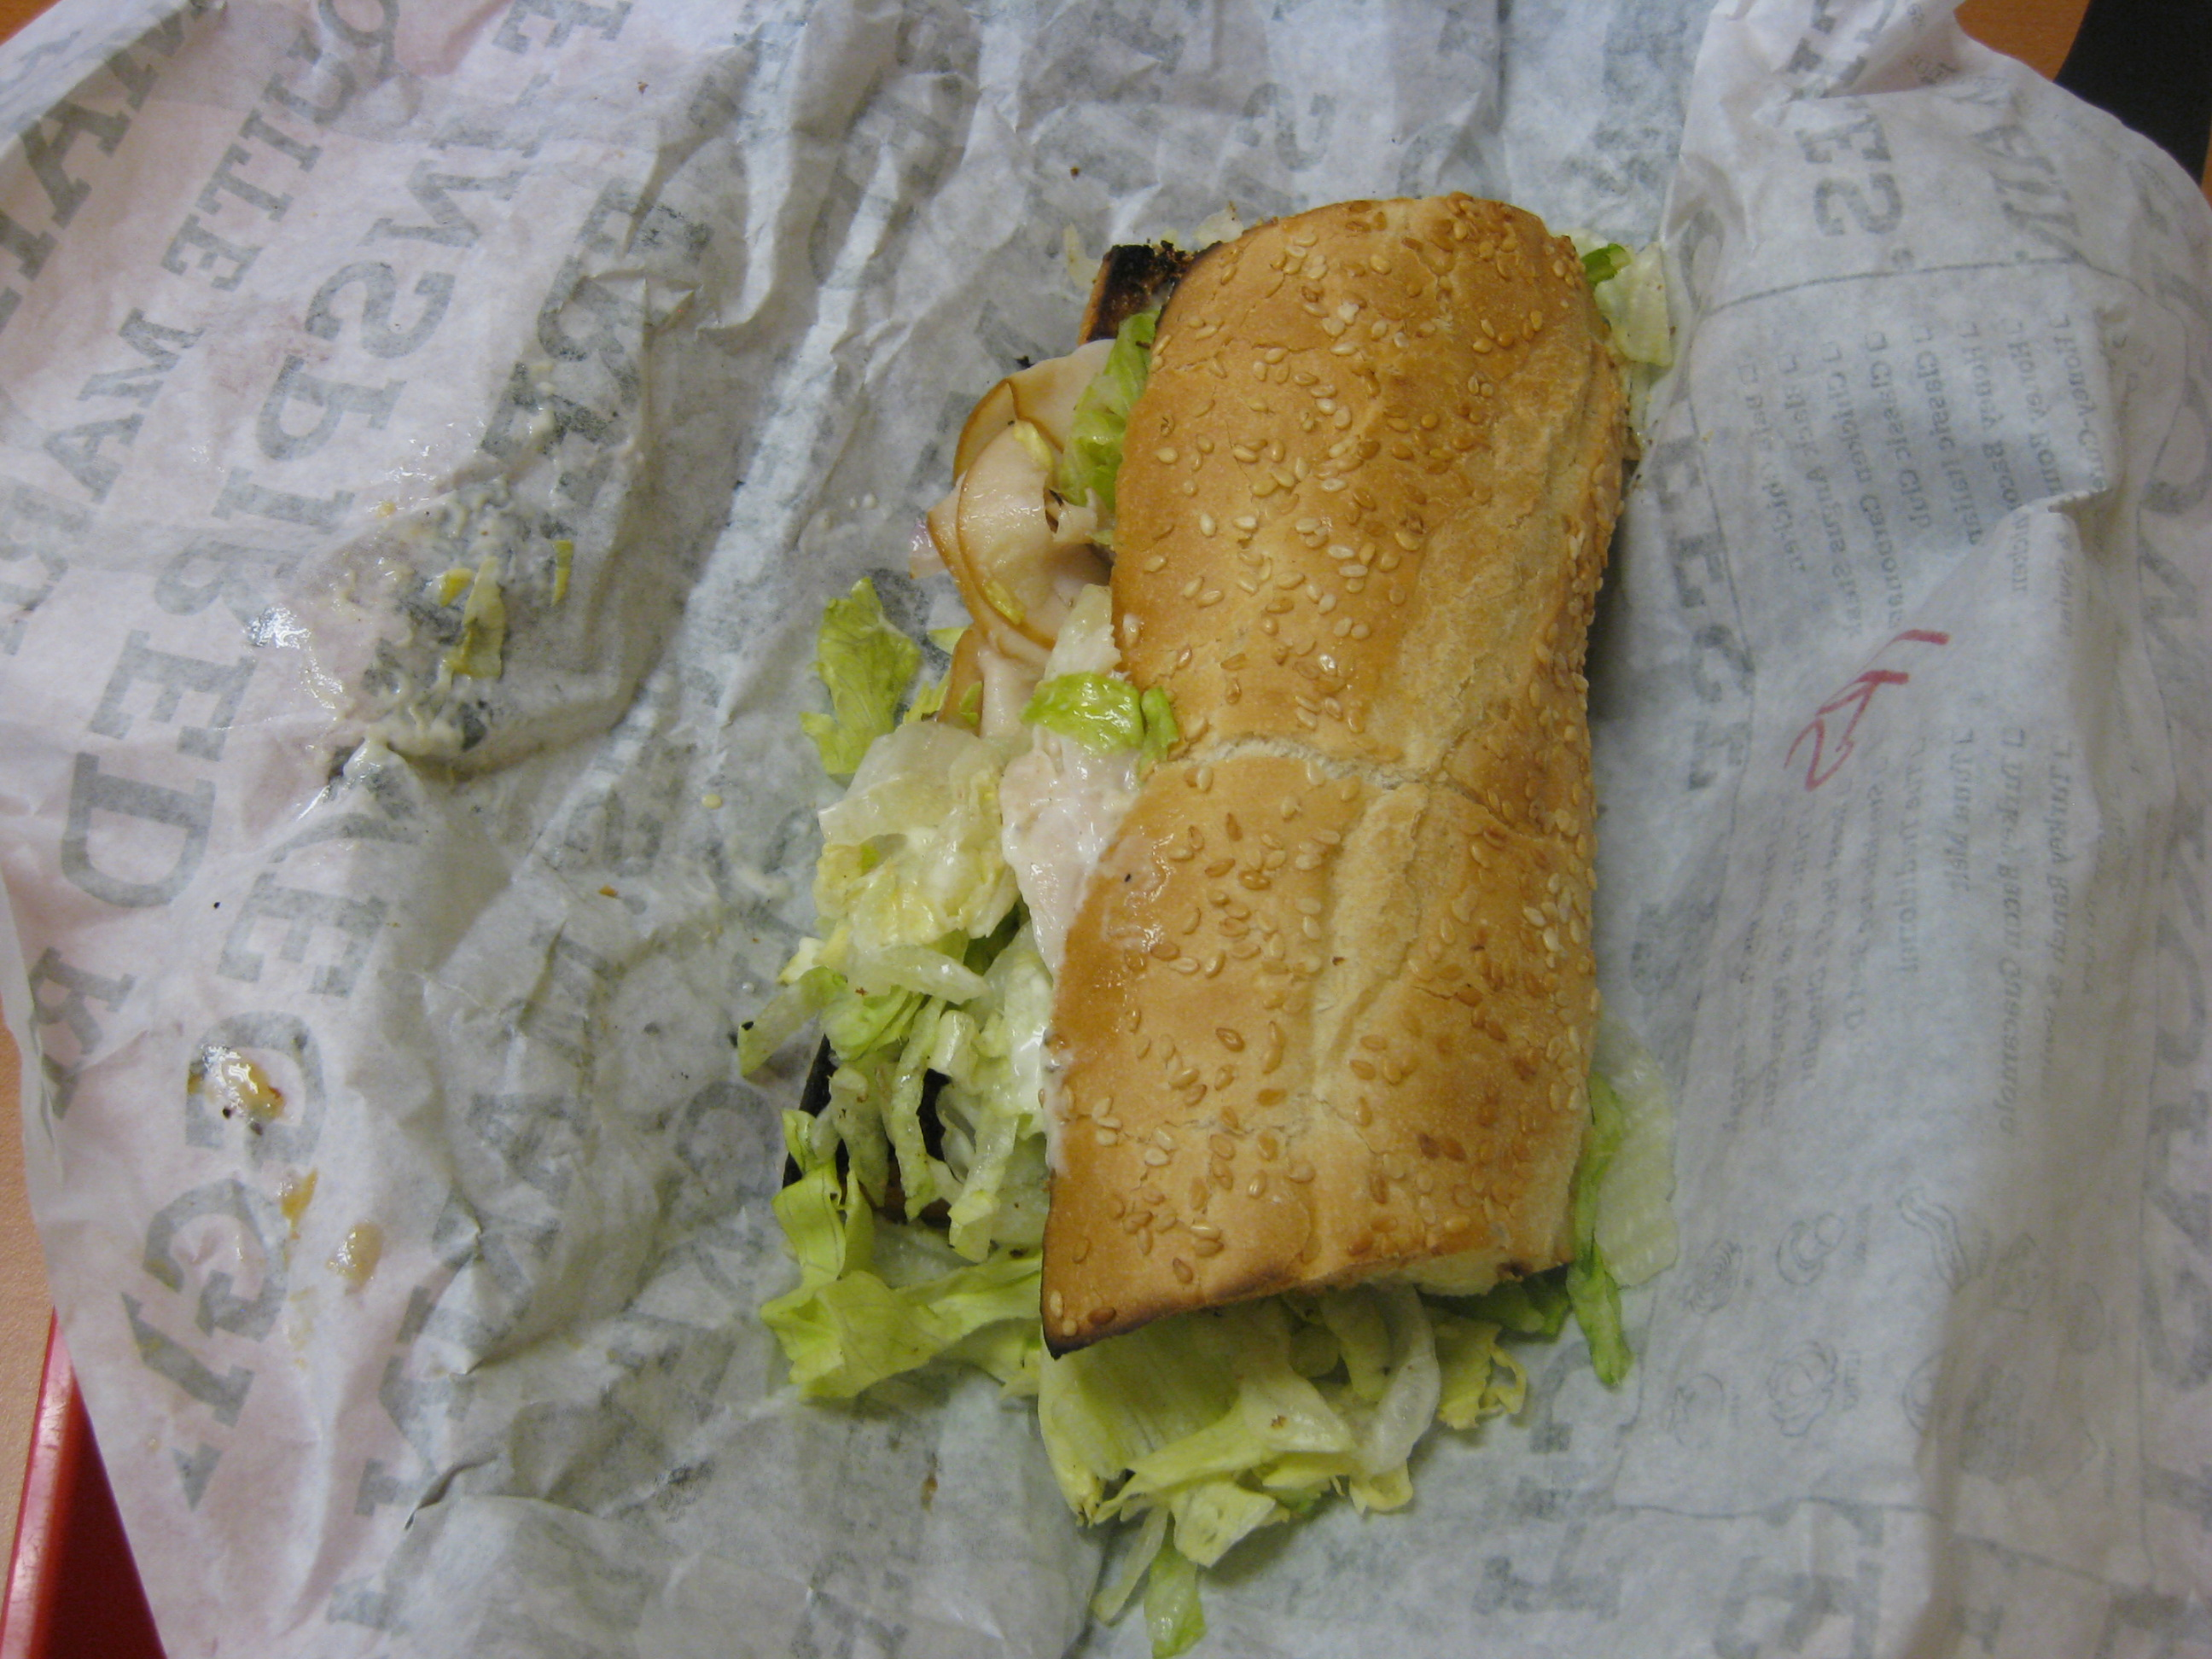sub: (951, 197, 1631, 1519)
